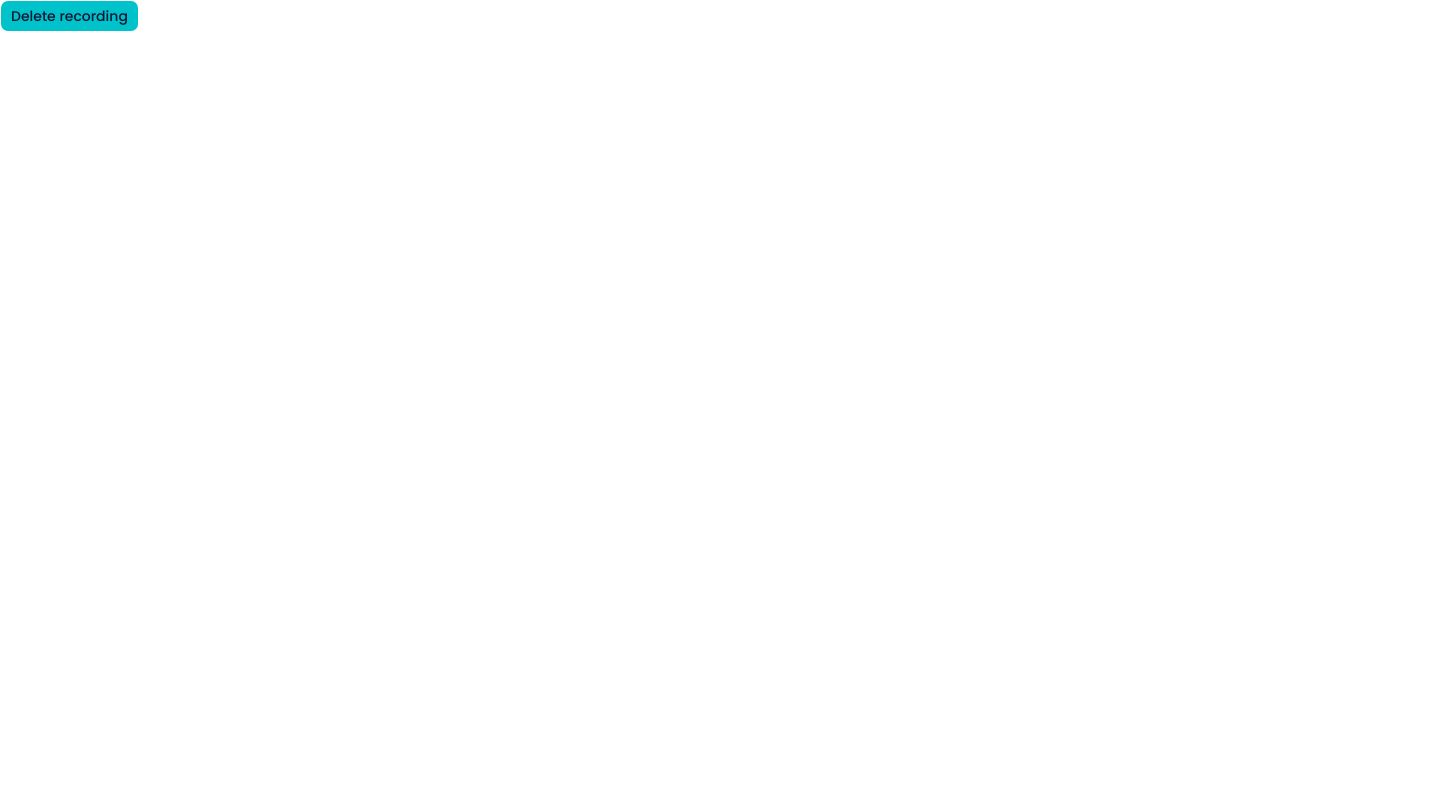
focuses the safe cancel action and restores focus without deleting
Click the button "Delete recording".
click(69, 16)  # box [0,0,139,32]
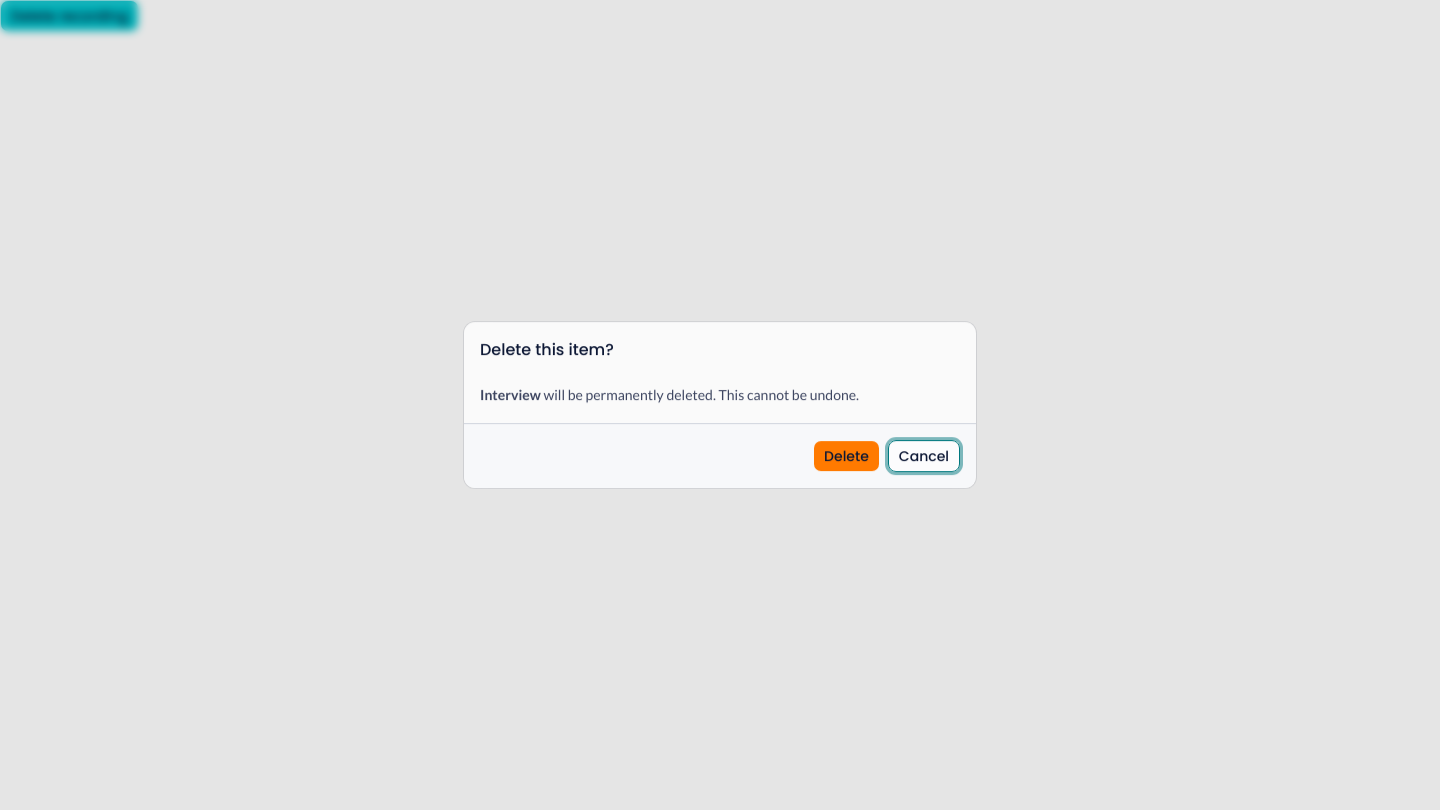
Press Enter
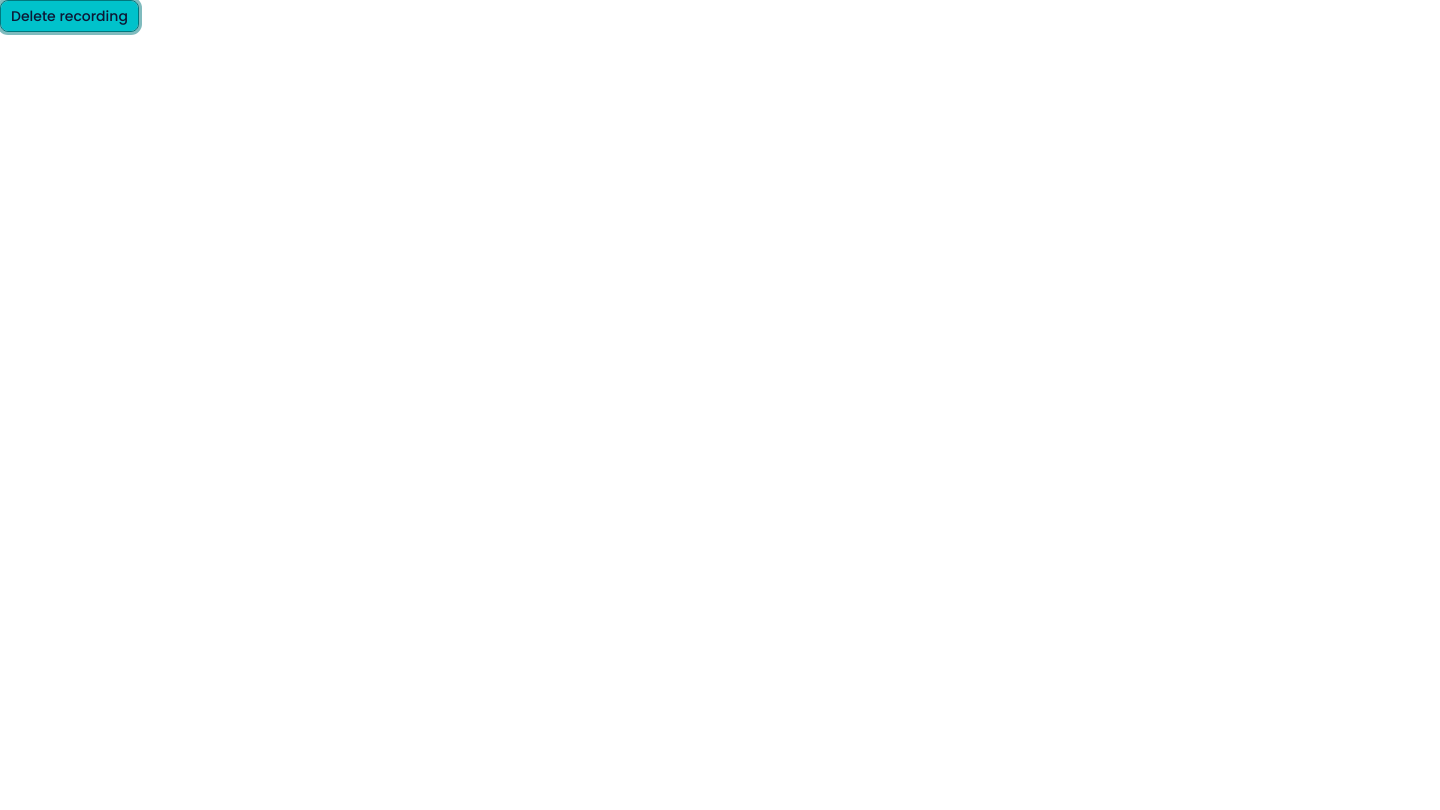
Check: the dialog is gone
